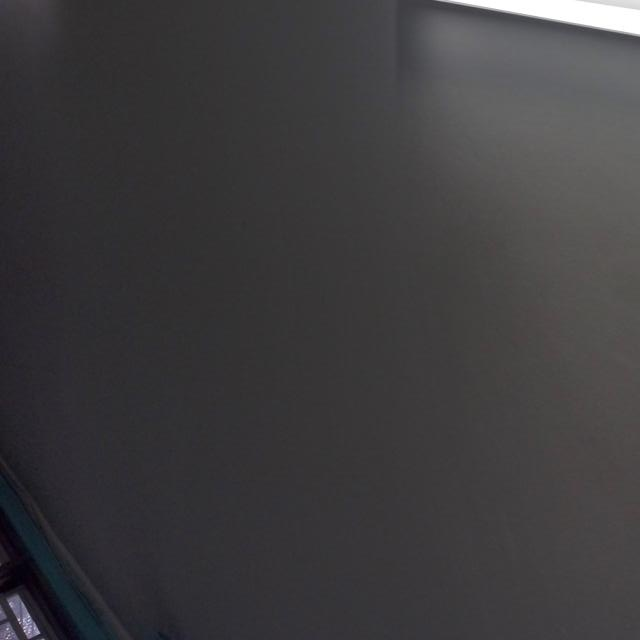fluorescent tube: (332, 0, 640, 230)
